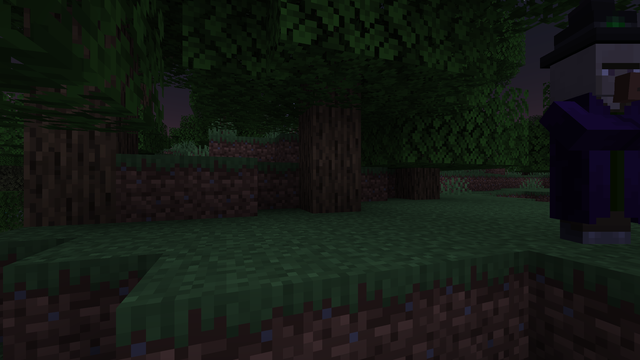sorcieres: (540, 26, 637, 251)
